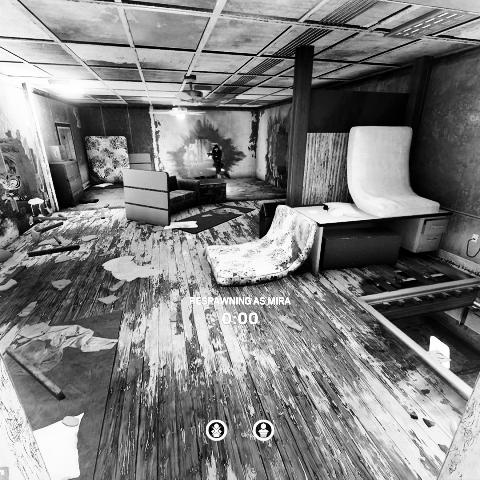Character: (205, 144, 223, 176)
Head: (213, 144, 218, 151)
